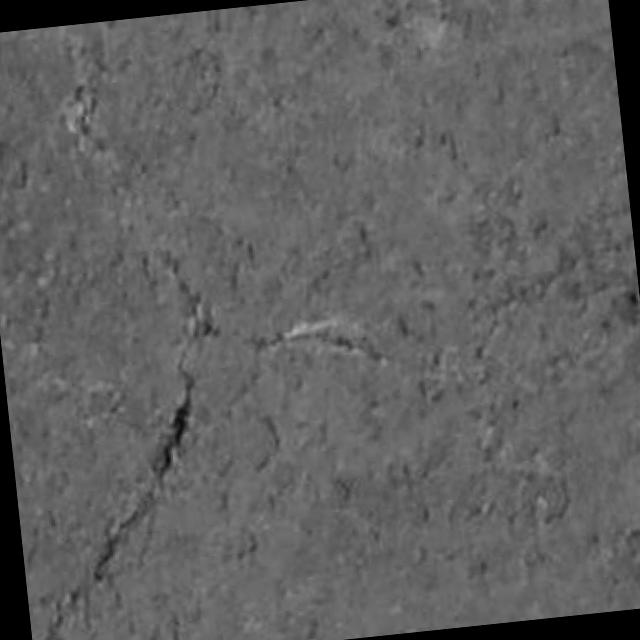crack: (41, 263, 217, 639), (254, 318, 386, 365), (149, 374, 194, 485)
